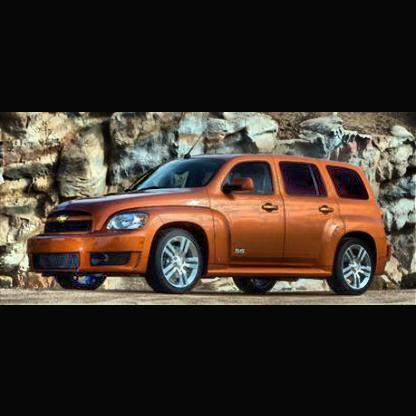Chevrolet HHR SS 2010: (26, 150, 396, 302)
